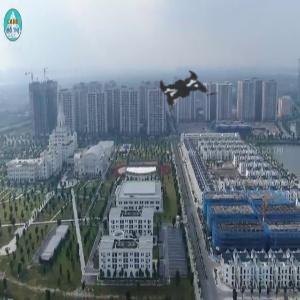drone: (129, 37, 242, 150)
